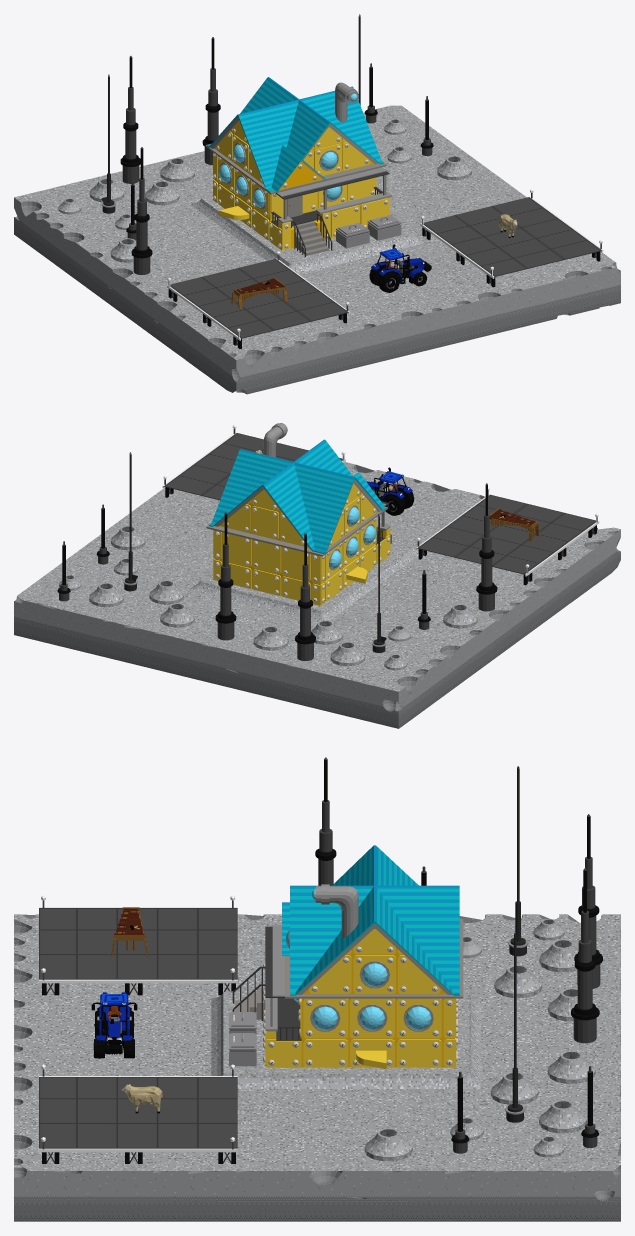
3 renders of one model, top to bottom at view 1: azimuth 30°, elevation 25°; view 2: azimuth 150°, elevation 25°; view 3: azimuth 270°, elevation 25°, orthographic. The views are drawn at different scales.
Parts seen in each view (by area): view 1: Cube.027, Cube.1366, Cube.026, Cube.025, Cube.028, VEHICLES_TRACTOR, Cylinder.021, Cylinder.020, Cylinder.017, OBJRANDOM_MARIMBA, Cube.029, Cube.030 (+4 smaller); view 2: Cube.027, Cube.1366, Cube.025, Cube.028, Cube.026, Cylinder.017, Cylinder.021, Cylinder.020, VEHICLES_TRACTOR, OBJRANDOM_MARIMBA, Cylinder.027, Cylinder.029 (+8 smaller); view 3: Cube.027, Cube.1366, Cube.026, Cube.025, Cube.028, VEHICLES_TRACTOR, Cylinder.017, Cylinder.020, Cylinder.021, Cylinder.033, Cylinder.031, Cylinder.029 (+11 smaller).
Part boxes in pixels (<box>): Cube.027: <box>14,105,620,394</box>; Cube.1366: <box>205,77,391,256</box>; Cube.026: <box>420,189,603,287</box>; Cube.025: <box>167,251,349,348</box>; Cube.028: <box>191,195,424,273</box>; VEHICLES_TRACTOR: <box>369,244,431,292</box>; Cylinder.021: <box>131,147,152,274</box>; Cylinder.020: <box>120,56,140,183</box>; Cylinder.017: <box>202,37,220,164</box>; OBJRANDOM_MARIMBA: <box>231,277,287,309</box>; Cube.029: <box>336,222,369,248</box>; Cube.030: <box>367,215,401,240</box>; Cube.027: <box>14,462,620,728</box>; Cube.1366: <box>206,423,391,605</box>; Cube.025: <box>416,487,599,585</box>; Cube.028: <box>189,540,418,622</box>; Cube.026: <box>162,425,345,500</box>; Cylinder.017: <box>215,512,236,640</box>; Cylinder.021: <box>476,483,497,611</box>; Cylinder.020: <box>295,533,315,660</box>; VEHICLES_TRACTOR: <box>366,467,414,515</box>; OBJRANDOM_MARIMBA: <box>489,508,539,541</box>; Cylinder.027: <box>253,626,288,650</box>; Cylinder.029: <box>160,603,194,627</box>; Cube.027: <box>14,914,620,1221</box>; Cube.1366: <box>232,845,463,1069</box>; Cube.026: <box>39,1064,237,1163</box>; Cube.025: <box>39,895,237,995</box>; Cube.028: <box>211,991,481,1088</box>; VEHICLES_TRACTOR: <box>91,992,137,1058</box>; Cylinder.017: <box>571,868,599,1043</box>; Cylinder.020: <box>574,814,602,988</box>; Cylinder.021: <box>315,757,336,885</box>; Cylinder.033: <box>364,1128,412,1161</box>; Cylinder.031: <box>539,1100,586,1133</box>; Cylinder.029: <box>547,1050,595,1083</box>.
Bounding box in the file's own units: 4000 × 1807 × 4000.
35 materials, 4 textured.
